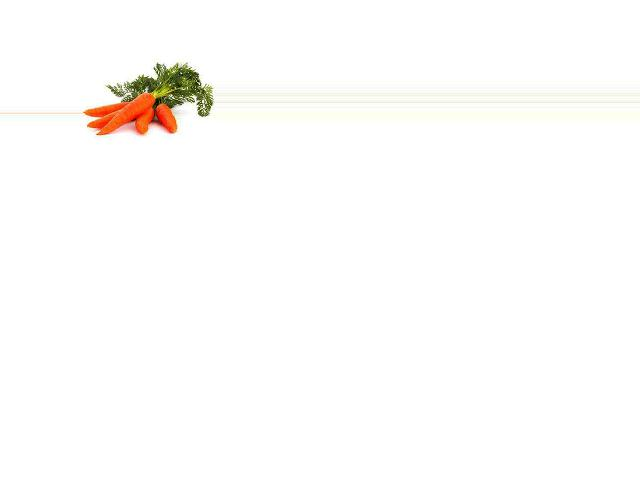carrot: (98, 88, 163, 138)
